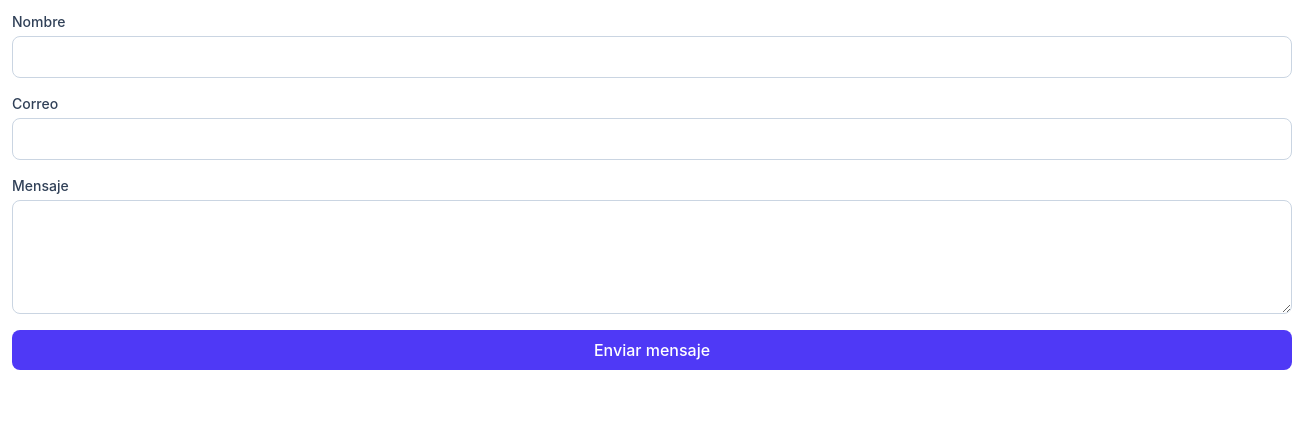
Test: ContactForm › envía el formulario con datos válidos y lo limpia
The image size is (1304, 425).
Type "Ana" into the field labelled "Nombre" at (652, 57), box left=12, top=36, right=1292, bottom=78
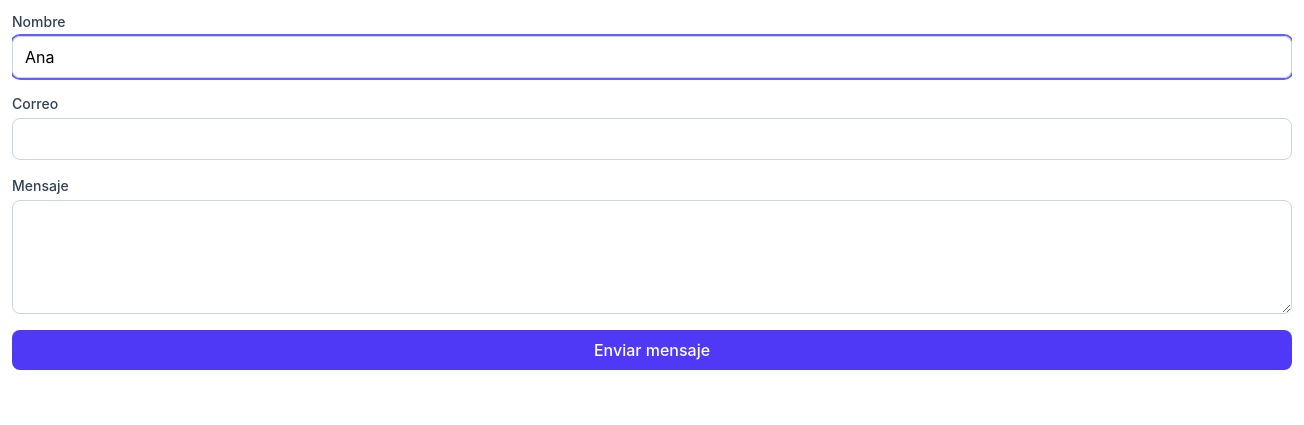
Type "ana@correo.com" into the field labelled "Correo" at (652, 139), box left=12, top=118, right=1292, bottom=160
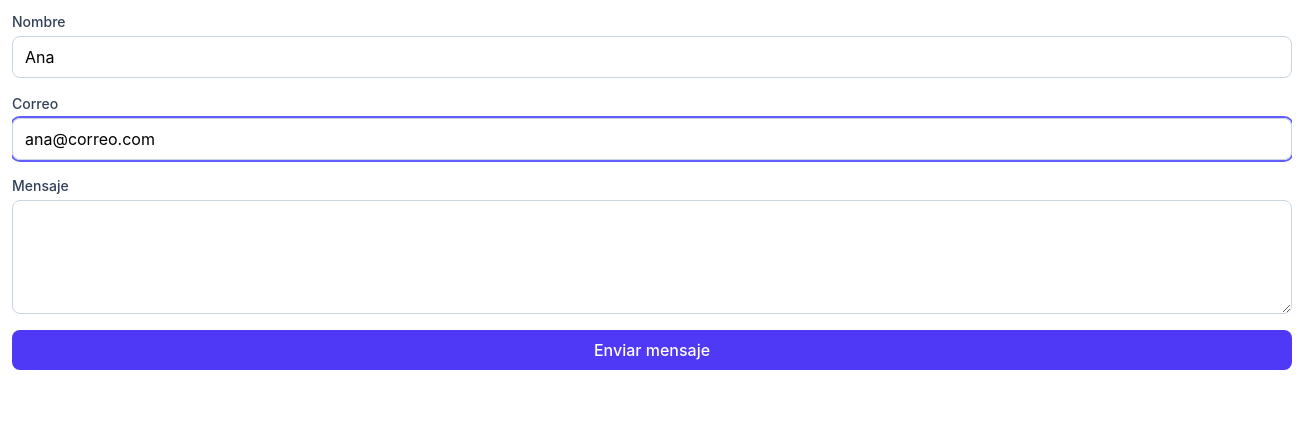
Type "Un mensaje suficientemente largo" into the text box labelled "Mensaje" at (652, 257), box left=12, top=200, right=1292, bottom=314
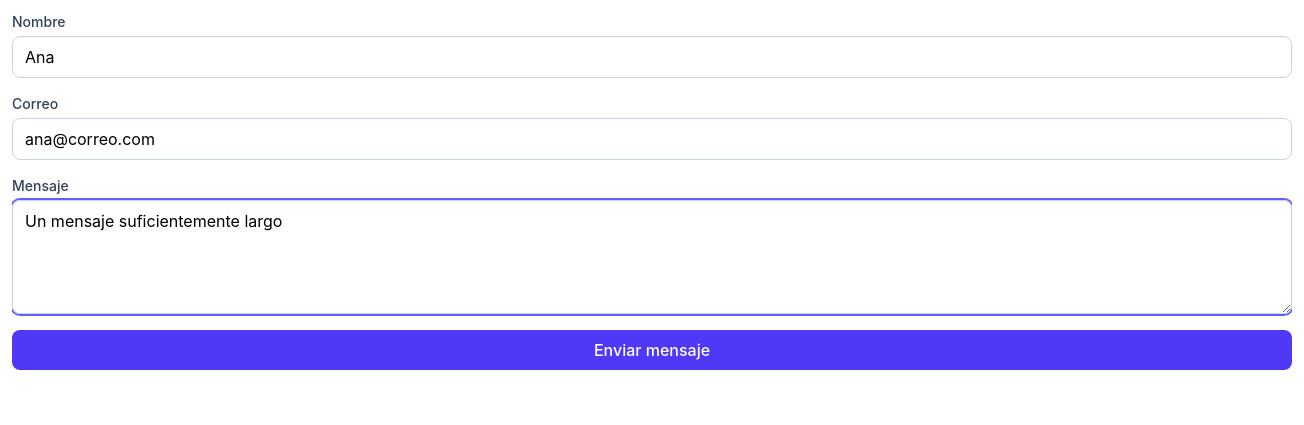
Click the button "Enviar mensaje" at (652, 350), box left=12, top=330, right=1292, bottom=370
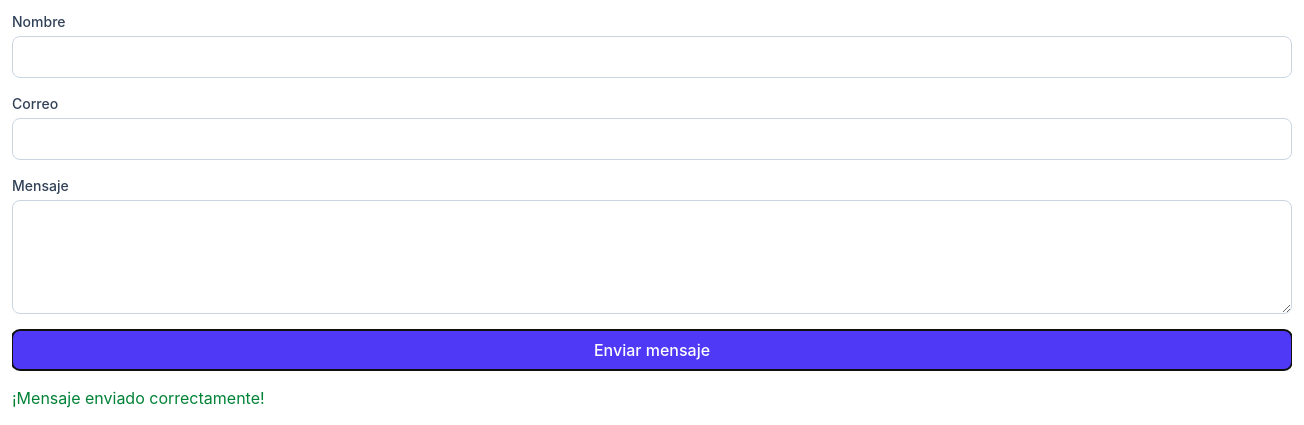
Now the text "¡Mensaje enviado correctamente!" is shown, box left=12, top=388, right=265, bottom=408
Now the field labelled "Nombre" is empty, box left=12, top=36, right=1292, bottom=78
